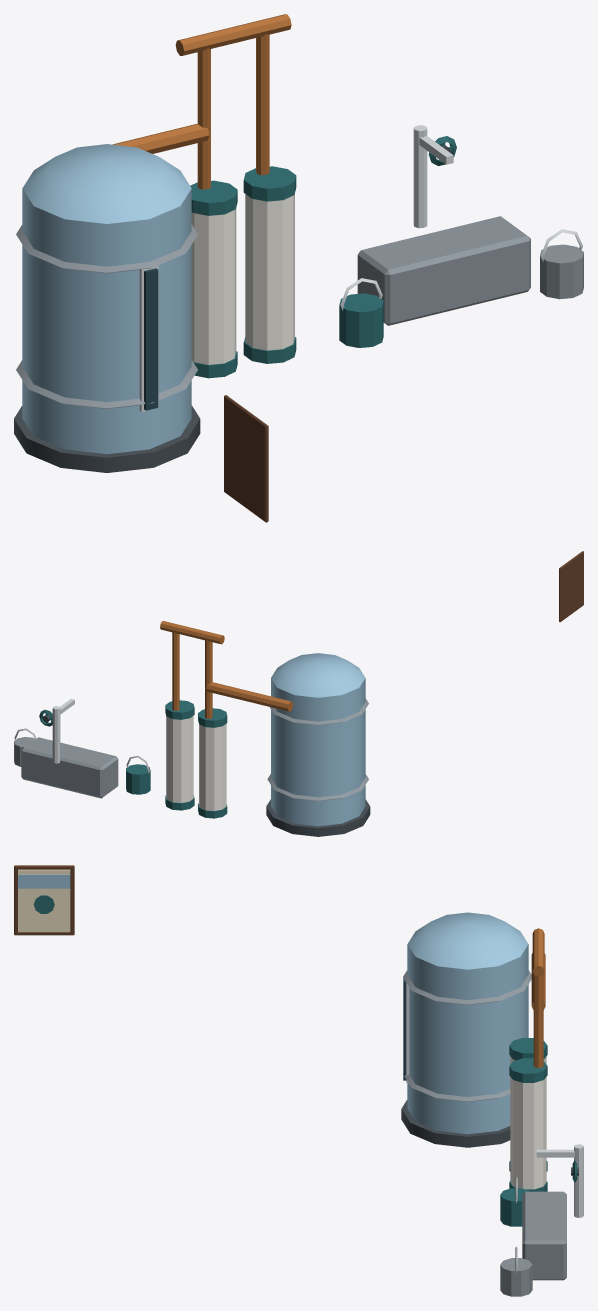
Rendered from Room_WaterPurifier_L1.fbx.
3 views of the same model, one above another, from view 1: azimuth 30°, elevation 25°; view 2: azimuth 150°, elevation 25°; view 3: azimuth 270°, elevation 25° (orthographic). The views are drawn at different scales.
Visible parts, largest first — view 1: Decor, Tank1, Trough1, Filter2, Filter1, DecorGlass; view 2: Decor, Tank1, Trough1, Filter1, Filter2; view 3: Decor, Tank1, Filter2, Trough1.
Part boxes in pixels (x1=…): Decor: x1=14, y1=14, x2=583, y2=522; Tank1: x1=22, y1=188, x2=191, y2=454; Trough1: x1=357, y1=216, x2=530, y2=325; Filter2: x1=245, y1=194, x2=294, y2=350; Filter1: x1=191, y1=208, x2=236, y2=364; DecorGlass: x1=144, y1=268, x2=158, y2=410; Decor: x1=14, y1=551, x2=583, y2=836; Tank1: x1=271, y1=678, x2=365, y2=826; Trough1: x1=21, y1=737, x2=118, y2=798; Filter1: x1=199, y1=723, x2=226, y2=810; Filter2: x1=166, y1=716, x2=193, y2=802; Decor: x1=14, y1=865, x2=583, y2=1296; Tank1: x1=407, y1=944, x2=528, y2=1134; Filter2: x1=510, y1=1077, x2=546, y2=1189; Trough1: x1=522, y1=1191, x2=566, y2=1280.
Bounding box in the file's own units: 27.37 × 12.8 × 28.25.
